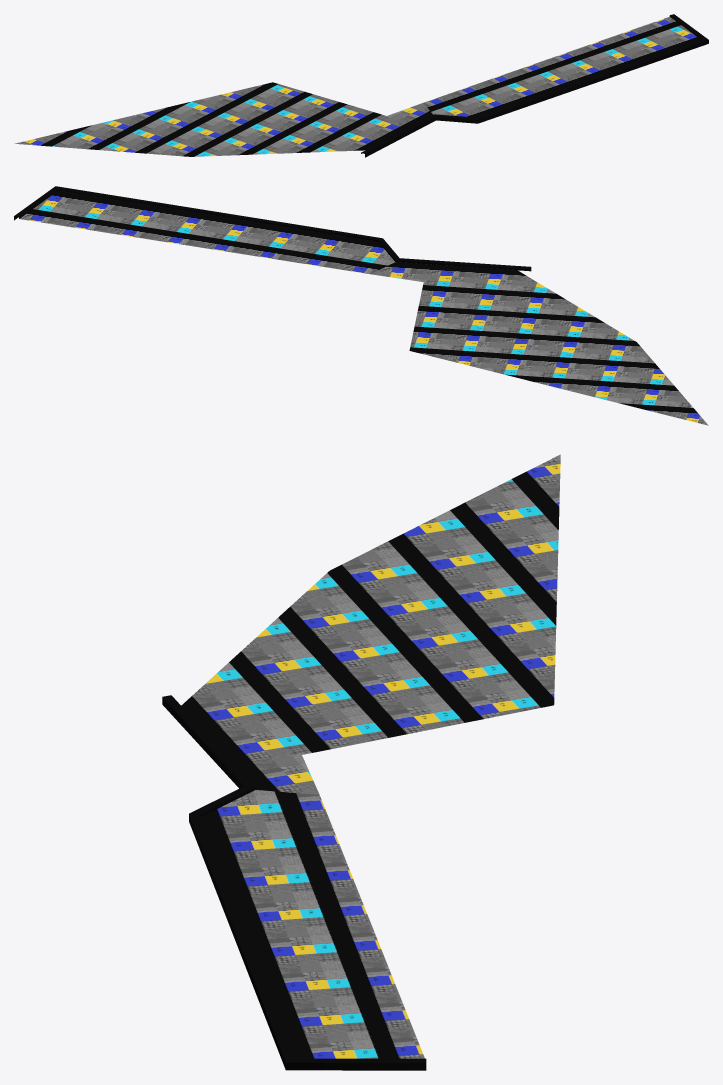
Rendered from chinatown_sidewalk_11.fbx.
3 views of the same model, one above another, from view 1: azimuth 30°, elevation 25°; view 2: azimuth 150°, elevation 25°; view 3: azimuth 270°, elevation 25° (orthographic). The views are drawn at different scales.
Visible parts, largest first — view 1: curb_tiles_1, chinatown_curb_11; view 2: curb_tiles_1, chinatown_curb_11; view 3: curb_tiles_1, chinatown_curb_11.
Part boxes in pixels (x1=…): curb_tiles_1: x1=14, y1=82, x2=432, y2=156; chinatown_curb_11: x1=361, y1=14, x2=708, y2=157; curb_tiles_1: x1=371, y1=262, x2=708, y2=425; chinatown_curb_11: x1=14, y1=186, x2=531, y2=274; curb_tiles_1: x1=181, y1=454, x2=560, y2=794; chinatown_curb_11: x1=162, y1=695, x2=426, y2=1070.
Size of the model in its own units: 2579 by 15 by 711.
